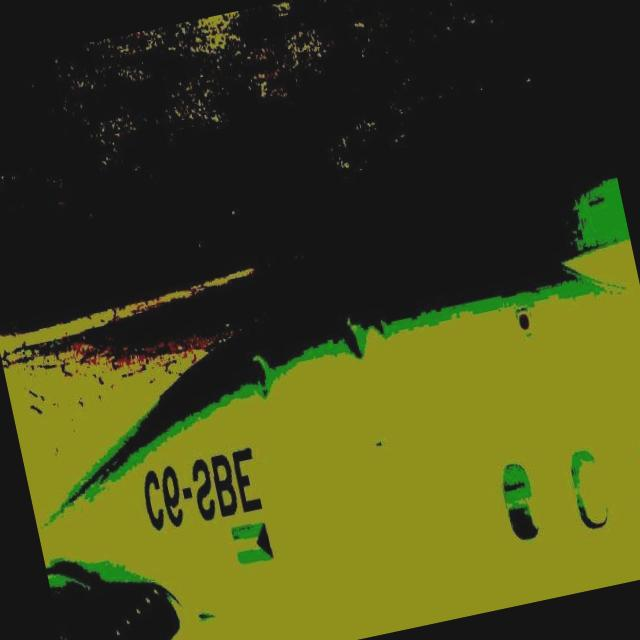dent: (232, 284, 408, 414)
